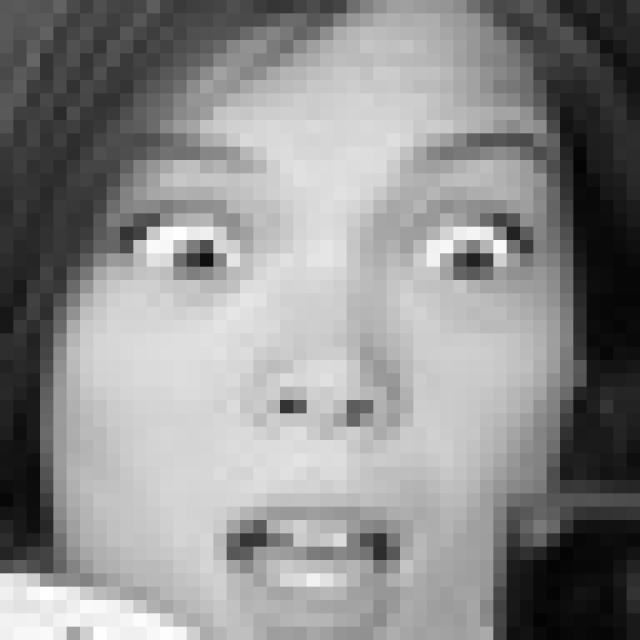surprise: (104, 127, 558, 640)
